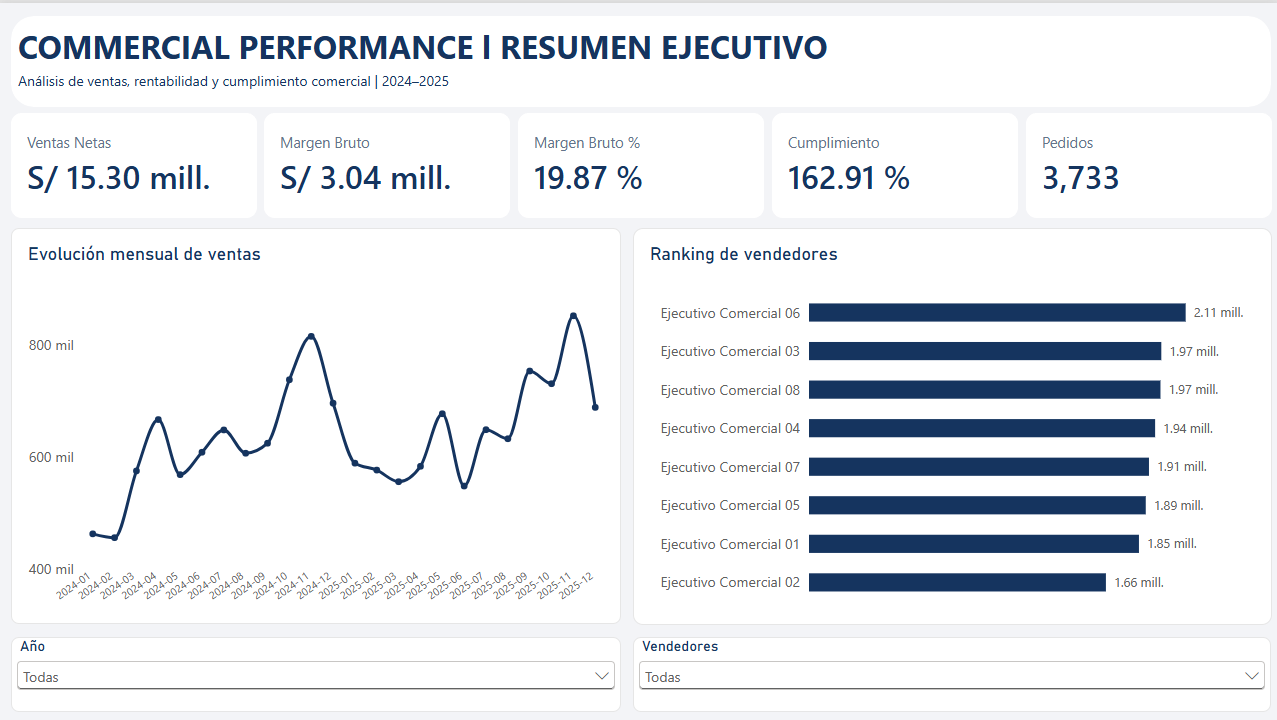

The dashboard page shown, as its layout file describes it:
{"tool":"powerbi","page":{"name":"Resumen Ejecutivo","canvas":[1280,720],"ordinal":0},"visuals":[{"type":"shape","box":[11.6,12.6,1260.7,90.9],"z":0},{"type":"cardVisual","fields":{"Data":["FactVentas.Ventas Netas"]},"box":[11.6,110.3,245.8,105.5],"z":0,"group":"g1"},{"type":"textbox","box":[11.6,0,1041,46.4],"z":1000},{"type":"cardVisual","fields":{"Data":["FactVentas.Margen Bruto"]},"box":[265,110.3,245.8,105.5],"z":1000,"group":"g1"},{"type":"textbox","box":[19.3,67.7,614.4,23.2],"z":2000},{"type":"cardVisual","fields":{"Data":["FactVentas.Margen Bruto %"]},"box":[518.5,110.3,245.8,105.5],"z":2000,"group":"g1"},{"type":"textbox","box":[19.3,21.3,819.5,46.4],"z":3000},{"type":"cardVisual","fields":{"Data":["FactMetas.Cumplimiento %"]},"box":[773,110.3,245.8,105.5],"z":3000,"group":"g1"},{"type":"group","id":"g1","title":"Grupo 1","box":[11.6,110.3,1260.7,105.5],"z":4000},{"type":"cardVisual","fields":{"Data":["FactVentas.Total Pedidos"]},"box":[1026.5,110.3,245.8,105.5],"z":4000,"group":"g1"},{"type":"lineChart","title":"Evolución mensual de ventas","fields":{"Category":["DimMes.AñoMes"],"Y":["Sum(FactMetas.ventas_netas)"]},"box":[11.6,225.4,610,396.1],"z":5000,"group":"g2"},{"type":"slicer","fields":{"Values":["DimMes.Año"]},"box":[11.6,633.7,610.5,75.5],"z":5000},{"type":"clusteredBarChart","title":"Ranking de vendedores","fields":{"Category":["DimVendedores.nombre"],"Y":["Sum(FactMetas.ventas_netas)"]},"box":[633.7,225.4,638.5,396.7],"z":6000,"group":"g2"},{"type":"slicer","fields":{"Values":["DimVendedores.nombre"]},"box":[633.7,633.7,638.5,75.5],"z":6000},{"type":"group","id":"g2","title":"Grupo 2","box":[11.6,225.4,1260.7,396.7],"z":8000}]}

Visuals, with their boxes in screenshot pixels (x1, y1, x2, y2), scaled from the page's 1280x720 canvas onto the 1277x720 screenshot:
shape: <box>12,13,1269,104</box>
cardVisual - FactVentas.Ventas Netas: <box>12,110,257,216</box>
textbox: <box>12,0,1050,46</box>
cardVisual - FactVentas.Margen Bruto: <box>264,110,510,216</box>
textbox: <box>19,68,632,91</box>
cardVisual - FactVentas.Margen Bruto %: <box>517,110,763,216</box>
textbox: <box>19,21,837,68</box>
cardVisual - FactMetas.Cumplimiento %: <box>771,110,1016,216</box>
"Grupo 1" group: <box>12,110,1269,216</box>
cardVisual - FactVentas.Total Pedidos: <box>1024,110,1269,216</box>
"Evolución mensual de ventas" lineChart: <box>12,225,620,622</box>
slicer - DimMes.Año: <box>12,634,621,709</box>
"Ranking de vendedores" clusteredBarChart: <box>632,225,1269,622</box>
slicer - DimVendedores.nombre: <box>632,634,1269,709</box>
"Grupo 2" group: <box>12,225,1269,622</box>
